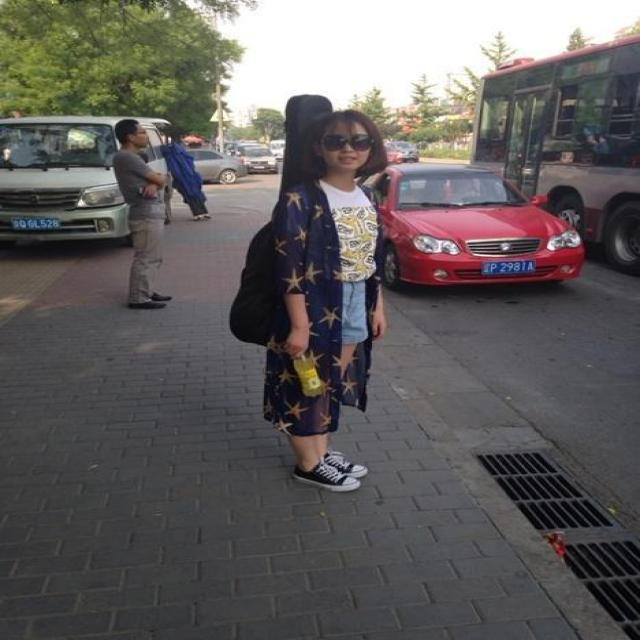long sleeve outwear: (267, 179, 339, 433)
shorts: (298, 283, 368, 344)
